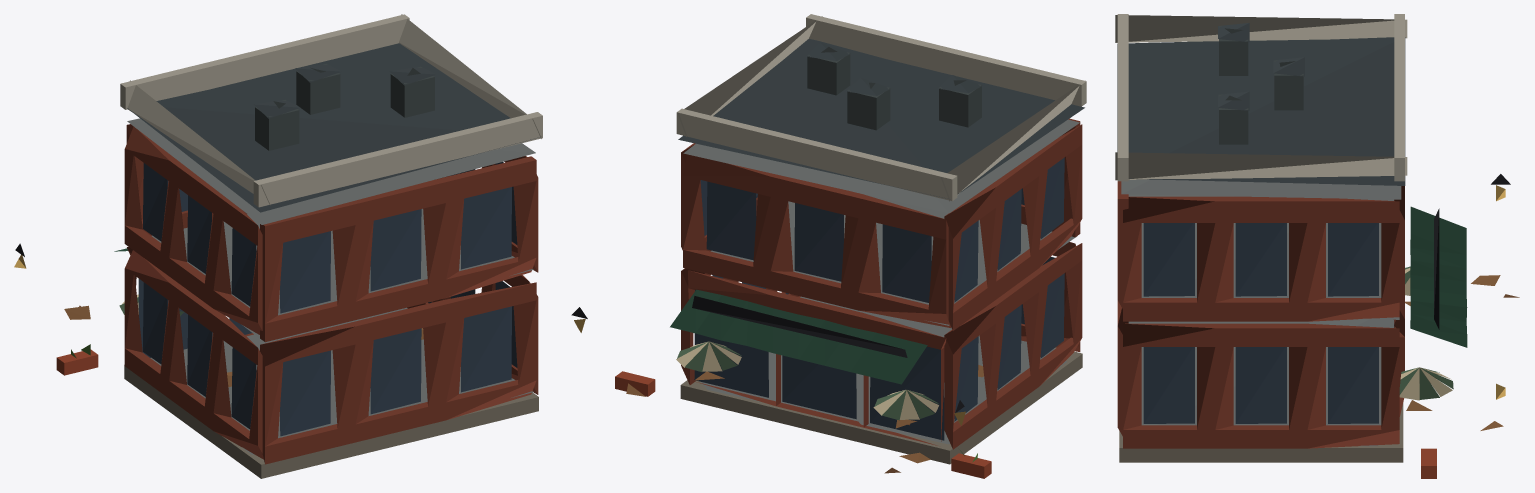
File: shop_cafe.glb
The picture shows the model from 3 angles, left to right: view 1: azimuth 30°, elevation 25°; view 2: azimuth 150°, elevation 25°; view 3: azimuth 270°, elevation 25°; orthographic projection. The views are drawn at different scales.
Bounding box in the file's own units: 3.68 × 2.75 × 3.07.
